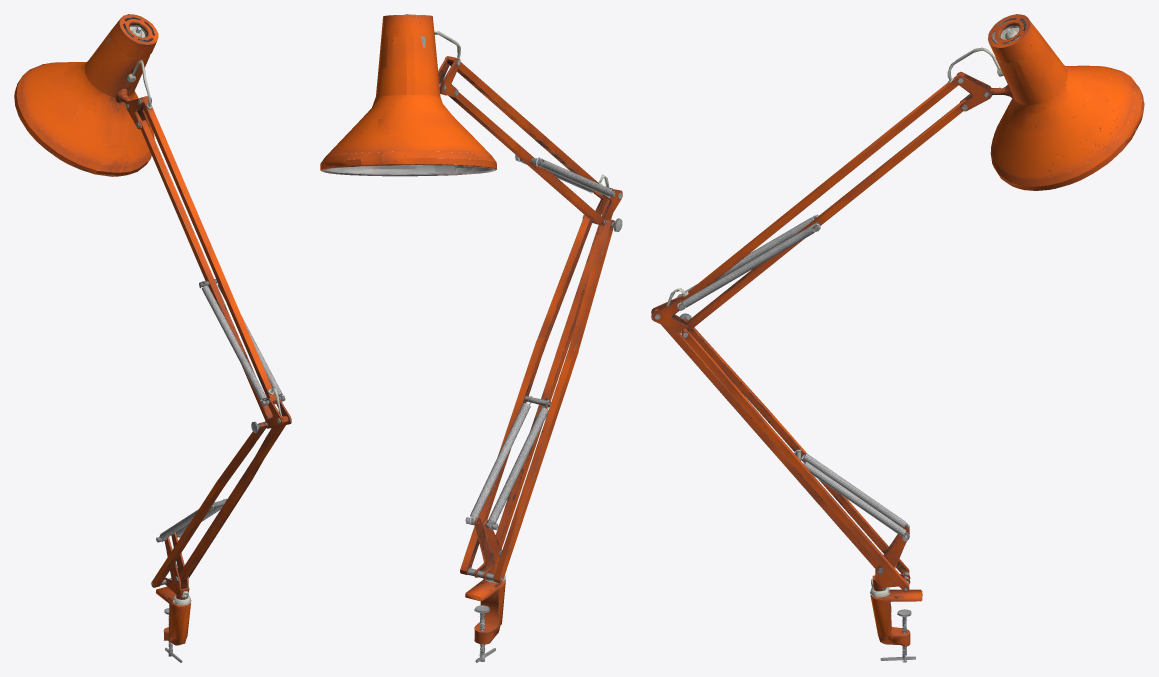
File: desk_lamp_arm_01.glb
3 views of the same model, side by side, from view 1: azimuth 30°, elevation 25°; view 2: azimuth 150°, elevation 25°; view 3: azimuth 270°, elevation 25° (orthographic). The views are drawn at different scales.
Parts seen in each view (by area): view 1: desk_lamp_arm_01; view 2: desk_lamp_arm_01; view 3: desk_lamp_arm_01.
Boxes of the visible parts, <box> form: desk_lamp_arm_01: <box>14,14,291,662</box>; desk_lamp_arm_01: <box>320,14,622,662</box>; desk_lamp_arm_01: <box>651,14,1144,662</box>.
Bounding box in the file's own units: 0.2018 × 0.8927 × 0.6143.
2 materials, 2 textured.
